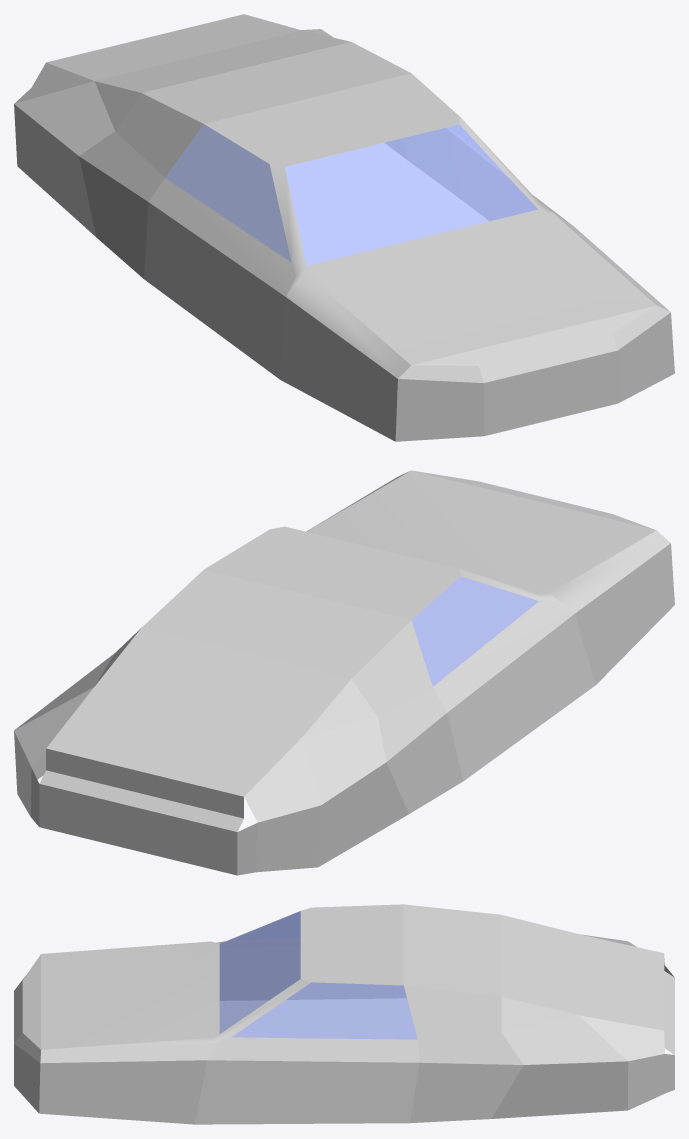
Rendered from car.fbx.
3 views of the same model, one above another, from view 1: azimuth 30°, elevation 25°; view 2: azimuth 150°, elevation 25°; view 3: azimuth 270°, elevation 25° (orthographic). The views are drawn at different scales.
Parts seen in each view (by area): view 1: pPlane1; view 2: pPlane1; view 3: pPlane1.
Boxes of the visible parts, x1=… form: pPlane1: x1=14, y1=14, x2=674, y2=441; pPlane1: x1=14, y1=470, x2=674, y2=875; pPlane1: x1=14, y1=904, x2=674, y2=1124.
Bounding box in the file's own units: 1.76 × 0.7743 × 3.93.
